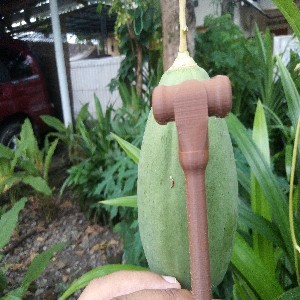palu: (152, 74, 233, 300)
